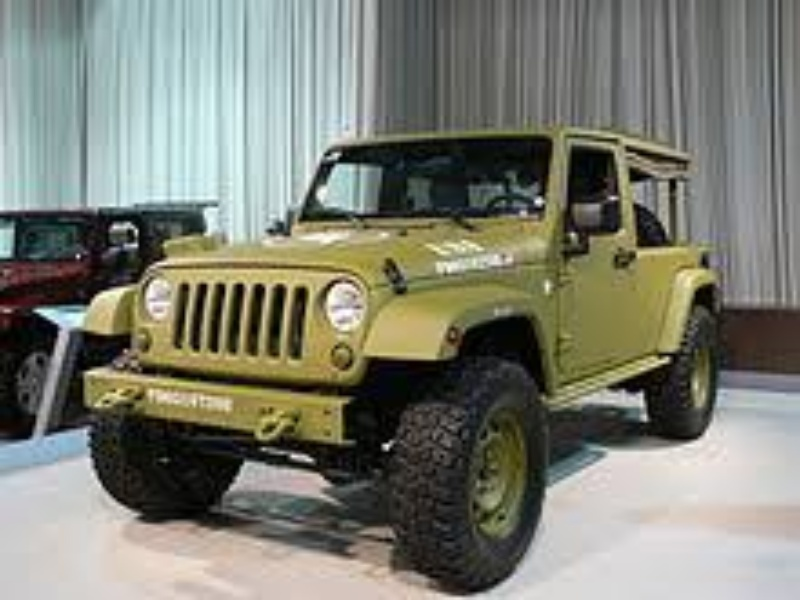jeep: (72, 119, 731, 594)
